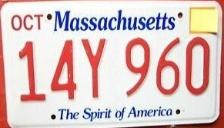0: (184, 35, 210, 96)
1: (17, 39, 48, 102)
4: (49, 38, 79, 102)
6: (154, 35, 183, 96)
9: (122, 36, 153, 97)
Y: (80, 37, 108, 99)
